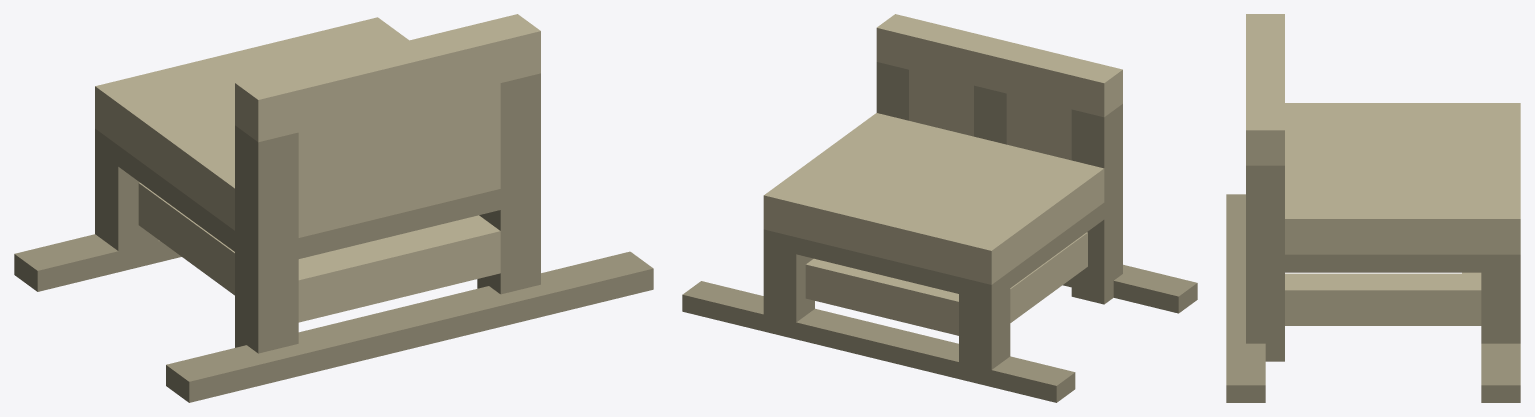
File: mecedora_sauce_01.glb
The picture shows the model from 3 angles, left to right: view 1: azimuth 30°, elevation 25°; view 2: azimuth 150°, elevation 25°; view 3: azimuth 270°, elevation 25°; orthographic projection. The views are drawn at different scales.
Parts seen in each view (by area): view 1: mecedora_sauce; view 2: mecedora_sauce; view 3: mecedora_sauce.
Part boxes in pixels (left/top/right/bottom): mecedora_sauce: left=14, top=14, right=653, bottom=402; mecedora_sauce: left=682, top=14, right=1197, bottom=402; mecedora_sauce: left=1226, top=14, right=1520, bottom=402.
Size of the model in its own units: 1.64 by 0.9286 by 1.07.
